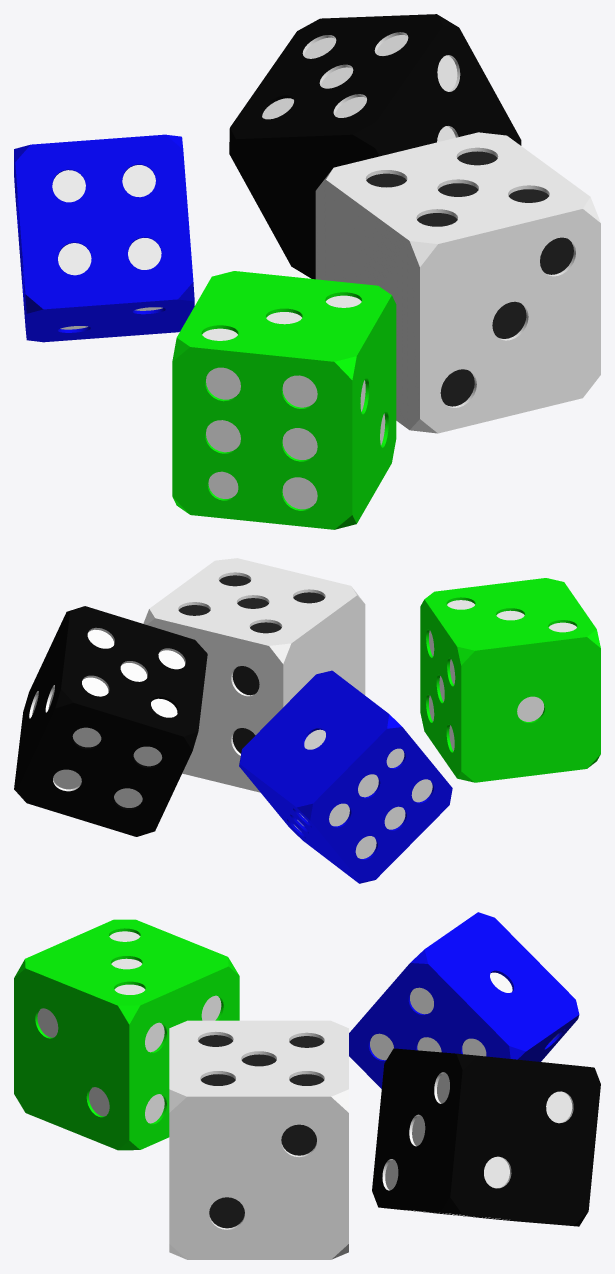
File: block4.obj
The picture shows the model from 3 angles, top to bottom: view 1: azimuth 30°, elevation 25°; view 2: azimuth 150°, elevation 25°; view 3: azimuth 270°, elevation 25°; orthographic projection. The views are drawn at different scales.
Parts seen in each view (by area): view 1: Mesh4 DICE1 Model, Mesh3 Group3 Model, Mesh1 Group1 Model, Mesh2 Group2 Model; view 2: Mesh1 Group1 Model, Mesh3 Group3 Model, Mesh4 DICE1 Model, Mesh2 Group2 Model; view 3: Mesh4 DICE1 Model, Mesh3 Group3 Model, Mesh1 Group1 Model, Mesh2 Group2 Model.
Part boxes in pixels (x1,y1,x2,y2): Mesh4 DICE1 Model: (315,132,600,433); Mesh3 Group3 Model: (172,271,396,529); Mesh1 Group1 Model: (229,14,521,279); Mesh2 Group2 Model: (14,134,194,342); Mesh1 Group1 Model: (14,606,207,836); Mesh3 Group3 Model: (420,578,600,782); Mesh4 DICE1 Model: (143,558,365,792); Mesh2 Group2 Model: (239,670,452,883); Mesh4 DICE1 Model: (169,1020,348,1259); Mesh3 Group3 Model: (14,919,239,1150); Mesh1 Group1 Model: (372,1048,600,1226); Mesh2 Group2 Model: (349,912,579,1088).
Size of the model in its own units: 2.2 by 0.96 by 2.42.
